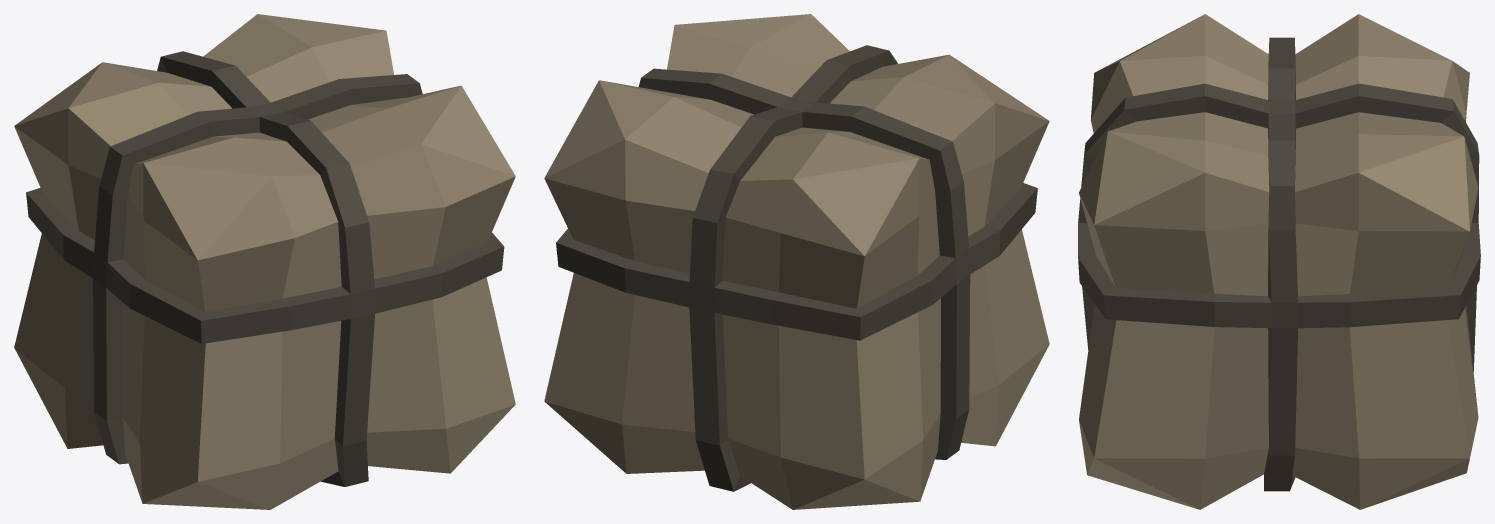
The model's file is Crate_2.fbx.
3 renders of one model, left to right at view 1: azimuth 30°, elevation 25°; view 2: azimuth 150°, elevation 25°; view 3: azimuth 270°, elevation 25°, orthographic. The views are drawn at different scales.
Visible parts, largest first — view 1: Crate_2; view 2: Crate_2; view 3: Crate_2.
Boxes of the visible parts, x1=… form: Crate_2: x1=14, y1=14, x2=515, y2=509; Crate_2: x1=544, y1=14, x2=1049, y2=509; Crate_2: x1=1078, y1=14, x2=1480, y2=509.
Bounding box in the file's own units: 73.78 × 73.17 × 74.75.
